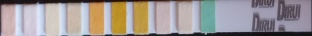color 1: (2, 6, 14, 36)
color 10: (201, 2, 213, 30)
color 2: (24, 5, 36, 34)
color 3: (46, 4, 58, 35)
color 4: (67, 4, 80, 36)
color 5: (90, 4, 102, 33)
color 6: (112, 3, 125, 33)
color 7: (135, 2, 147, 33)
color 8: (157, 3, 168, 32)
color 9: (179, 3, 191, 32)
